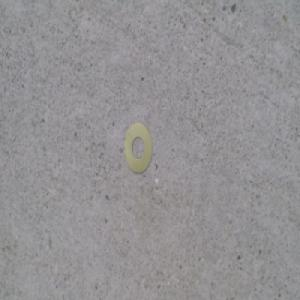Washer: (123, 122, 153, 176)
